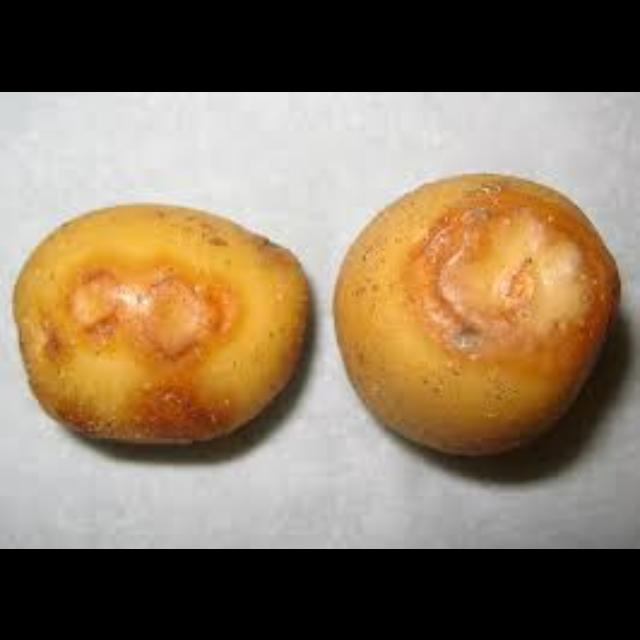Diseased-fungal potato: (330, 160, 612, 470), (8, 185, 314, 457)
